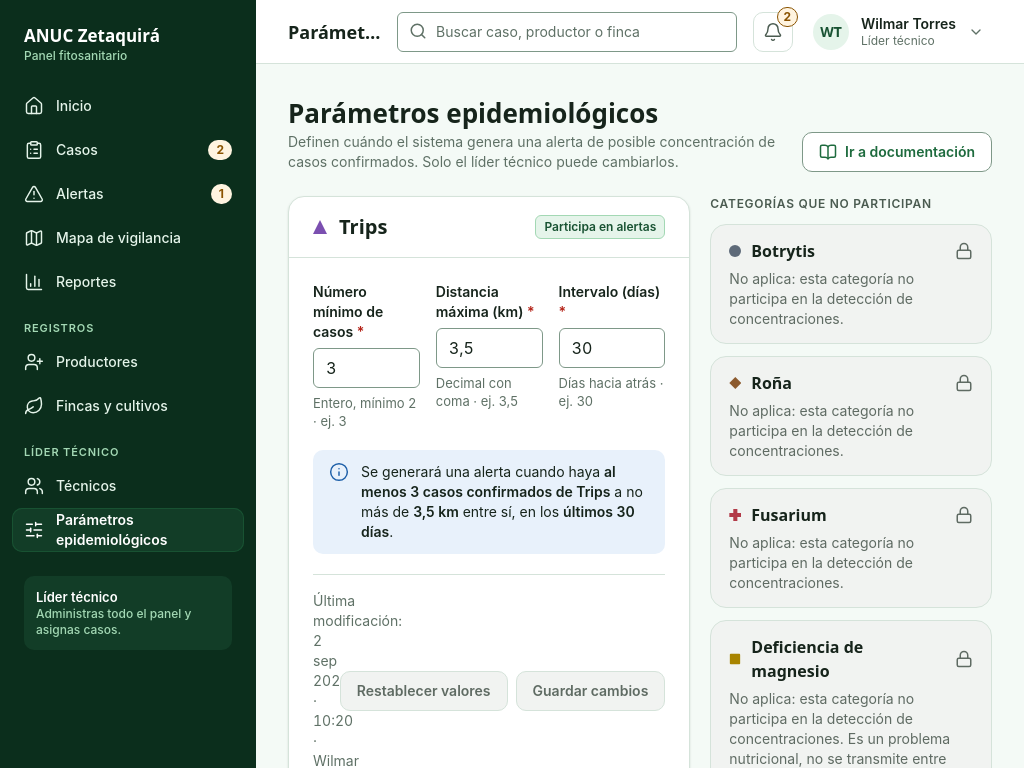
Test: Parámetros epidemiológicos › guarda con confirmación y actualiza la última modificación
The width and height of the screenshot is (1024, 768).
Replace the text in the field labelled "Número mínimo de casos *" with "4" at (366, 368), box [313, 348, 420, 388]
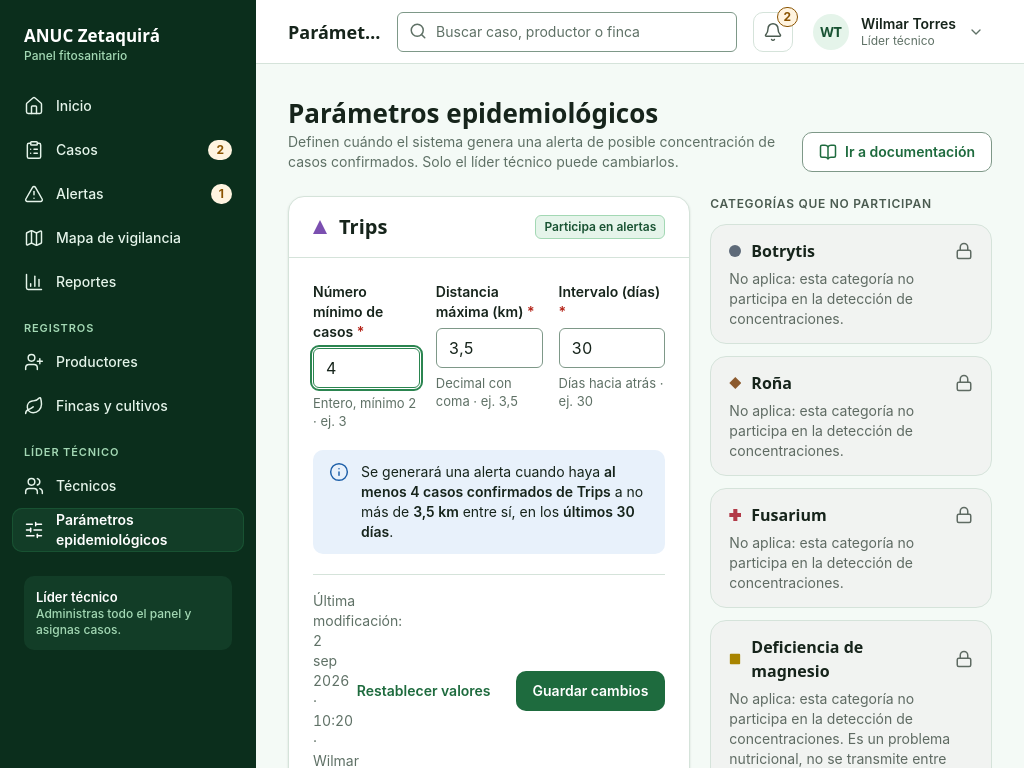
Click the button "Guardar cambios" at (590, 691), box [516, 671, 665, 711]
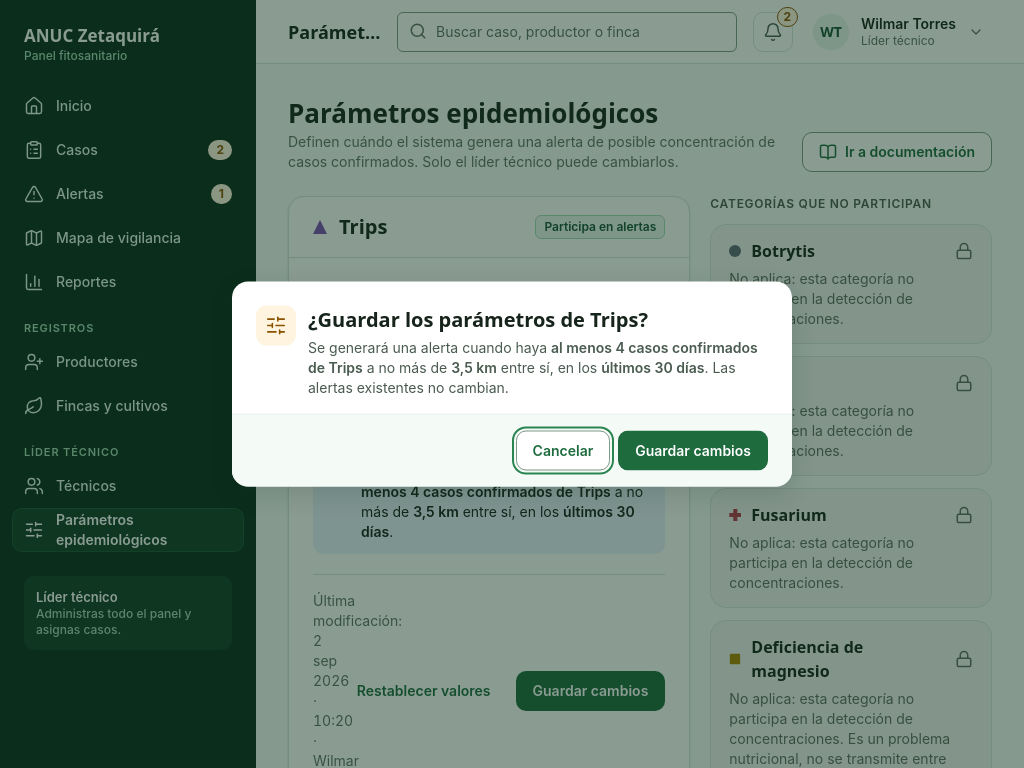
Check: the dialog "¿Guardar los parámetros de Trips?" shows "al menos 4 casos confirmados de Trips", box [232, 282, 792, 486]
Click the button "Guardar cambios" at (693, 450), box [618, 430, 768, 470]
(page scrolled)
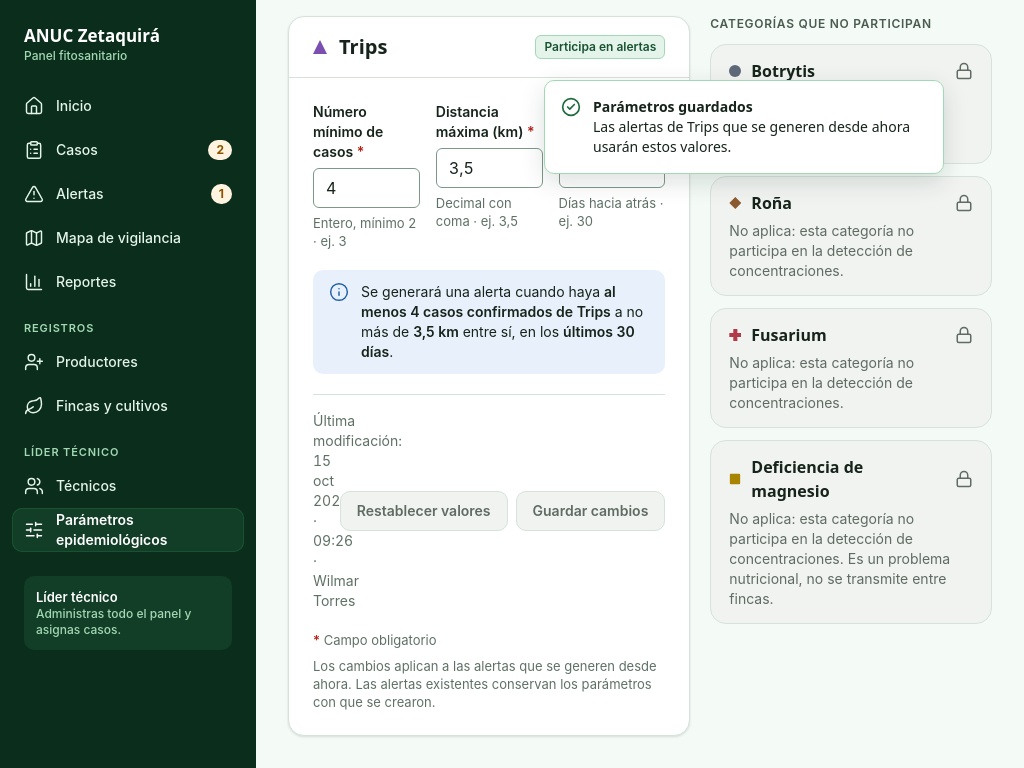
Check: the text "Parámetros guardados" is shown, box [593, 97, 753, 116]
Check: the text "Última modificación: 15 oct 2026 · 09:26 · Wilmar Torres" no longer shows "2 sep 2026", box [313, 411, 332, 611]
